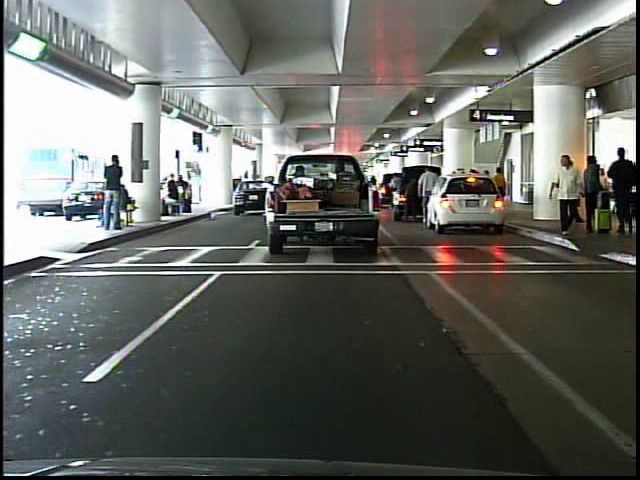person: (547, 144, 583, 239), (606, 147, 634, 235), (580, 152, 604, 240), (106, 152, 129, 233), (416, 161, 441, 230), (492, 163, 511, 217), (191, 167, 204, 210)
